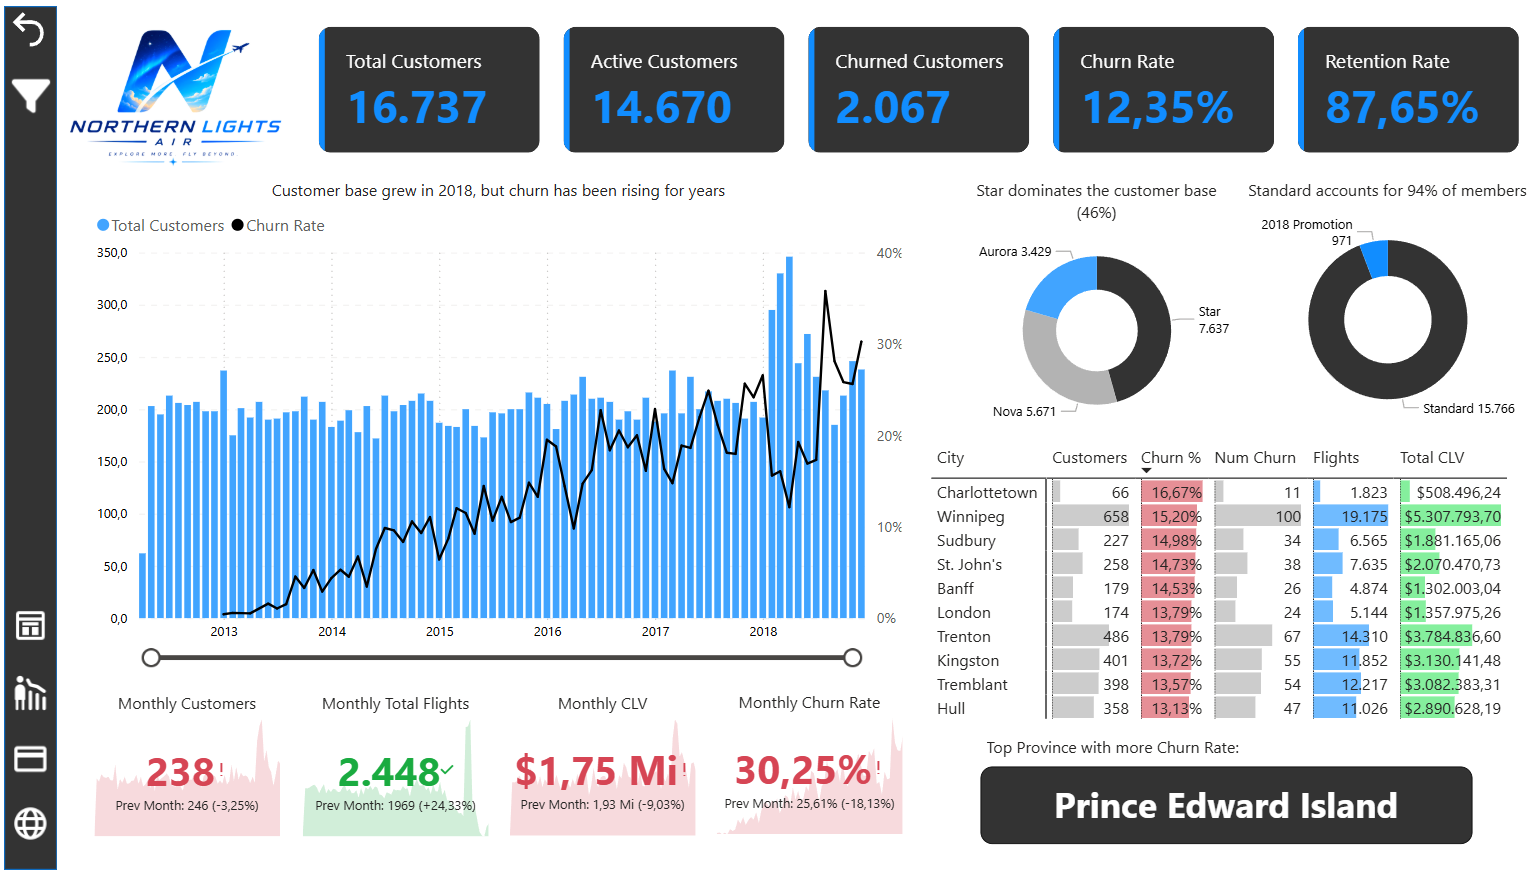

This screenshot's page, from the dashboard's own definition file:
{"tool":"powerbi","page":{"name":"Overview","canvas":[1280,720],"ordinal":0},"visuals":[{"type":"kpi","title":"Monthly Customers","fields":{"TrendLine":["Calendar.StartOfMonth"],"Goal":["Measures DAX.Previous Month Customers"],"Indicator":["Measures DAX.Total Customers (Time)"]},"box":[70.6,571.5,165,125.4],"z":0},{"type":"shape","box":[0,0,44.3,720],"z":1000},{"type":"image","box":[44.1,7.7,200.5,133.3],"z":2000},{"type":"lineStackedColumnComboChart","title":"Customer base grew in 2018, but churn has been rising for years","fields":{"Y2":["Measures DAX.Churn Rate (Time)"],"Y":["Measures DAX.Total Customers (Time)"],"Category":["Calendar.StartOfMonth"]},"box":[71.7,143.3,681.7,410],"z":3000},{"type":"cardVisual","fields":{"Data":["Measures DAX.Total Customers (Time)","Measures DAX.Active Customers (Time)","Measures DAX.Churned Customers (Time)","Measures DAX.Churn Rate (Time)","Measures DAX.Retencion Rate (Time)"]},"box":[244.4,0,1035.2,139.8],"z":4000},{"type":"actionButton","box":[1.4,0,44.3,38.6],"z":5000},{"type":"actionButton","box":[2,55,44.3,40],"z":6000},{"type":"donutChart","title":"Star dominates the customer base (46%)","fields":{"Category":["Customer_Loyalty_History.LoyaltyCard"],"Y":["Measures DAX.Total Customers (Time)"]},"box":[788.3,143.3,243.3,216.7],"z":7000},{"type":"kpi","title":"Monthly Total Flights","fields":{"TrendLine":["Calendar.StartOfMonth"],"Indicator":["Measures DAX.Total Flights (Time)"],"Goal":["Measures DAX.Previous Month Total Flights"]},"box":[243.2,571.4,165,125.7],"z":8000},{"type":"kpi","title":"Monthly CLV","fields":{"TrendLine":["Calendar.StartOfMonth"],"Goal":["Measures DAX.Previous Month CLV"],"Indicator":["Measures DAX.Total CLV (Time)"]},"box":[415.7,571.7,165,125.2],"z":9000},{"type":"kpi","title":"Monthly Churn Rate","fields":{"TrendLine":["Calendar.StartOfMonth"],"Indicator":["Measures DAX.Churn Rate (Time)"],"Goal":["Measures DAX.Previous Month Churn Rate"]},"box":[588.3,570,165,125],"z":10000},{"type":"donutChart","title":"Standard accounts for 94% of members","fields":{"Y":["Measures DAX.Total Customers (Time)"],"Category":["Customer_Loyalty_History.EnrollmentType"]},"box":[1031.7,143.3,243.3,216.7],"z":11000},{"type":"textbox","box":[813.8,602.1,224.8,31.6],"z":12000},{"type":"card","fields":{"Values":["Min(Customer_Loyalty_History.Province)"]},"box":[813.8,633.7,410.2,64.4],"z":13000},{"type":"pivotTable","fields":{"Rows":["Customer_Loyalty_History.City"],"Values":["Measures DAX.Total Customers (Time)","Measures DAX.Churn Rate (Time)","Measures DAX.Churned Customers (Time)","Measures DAX.Total Flights (Time)","Measures DAX.Total CLV (Time)"]},"box":[766.9,359.9,491.1,239.9],"z":14000},{"type":"actionButton","box":[0,496.7,44.2,40],"z":15000},{"type":"actionButton","box":[0,551.9,44.4,40],"z":16000},{"type":"actionButton","box":[0,607.3,44.4,40],"z":17000},{"type":"actionButton","box":[0,661.4,44.3,40],"z":18000}]}

Visuals, with their boxes on the page's 1280x720 design canvas (x1, y1, x2, y2). These are canvas units, not pixel positions in the 1539x876 screenshot, which may show the page scaled, cropped or inside an application window:
"Monthly Customers" kpi: rect(71, 572, 236, 697)
shape: rect(0, 0, 44, 720)
image: rect(44, 8, 245, 141)
"Customer base grew in 2018, but churn has been rising for years" lineStackedColumnComboChart: rect(72, 143, 753, 553)
cardVisual - Measures DAX.Total Customers (Time) x Measures DAX.Active Customers (Time): rect(244, 0, 1280, 140)
actionButton: rect(1, 0, 46, 39)
actionButton: rect(2, 55, 46, 95)
"Star dominates the customer base (46%)" donutChart: rect(788, 143, 1032, 360)
"Monthly Total Flights" kpi: rect(243, 571, 408, 697)
"Monthly CLV" kpi: rect(416, 572, 581, 697)
"Monthly Churn Rate" kpi: rect(588, 570, 753, 695)
"Standard accounts for 94% of members" donutChart: rect(1032, 143, 1275, 360)
textbox: rect(814, 602, 1039, 634)
card - Min(Customer_Loyalty_History.Province): rect(814, 634, 1224, 698)
pivotTable - Customer_Loyalty_History.City x Measures DAX.Total Customers (Time): rect(767, 360, 1258, 600)
actionButton: rect(0, 497, 44, 537)
actionButton: rect(0, 552, 44, 592)
actionButton: rect(0, 607, 44, 647)
actionButton: rect(0, 661, 44, 701)
